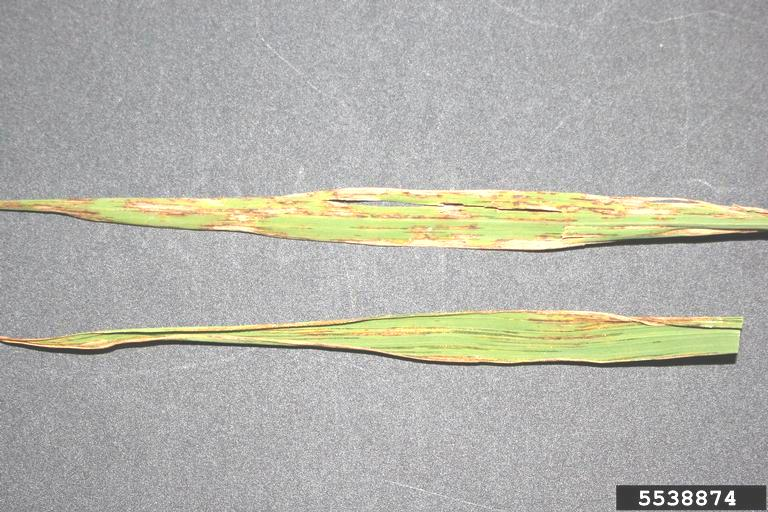2 BacterialBlight: (50, 177, 758, 251), (72, 296, 731, 341)
